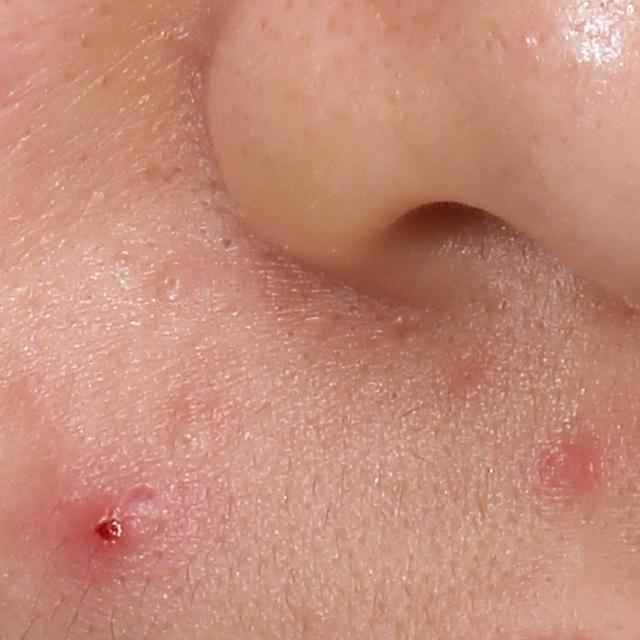comedo: (158, 267, 187, 302), (215, 233, 239, 254)
papule: (69, 483, 156, 560), (542, 438, 595, 492)
